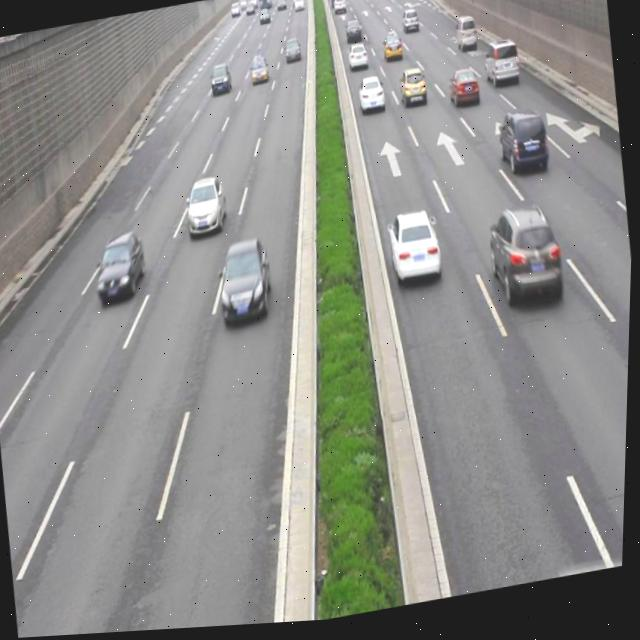car: (483, 207, 566, 313), (215, 241, 277, 332), (384, 211, 444, 299), (494, 110, 549, 183), (93, 232, 148, 303), (185, 176, 229, 241), (481, 41, 521, 89), (447, 69, 480, 119), (356, 77, 387, 122), (397, 70, 428, 114)
